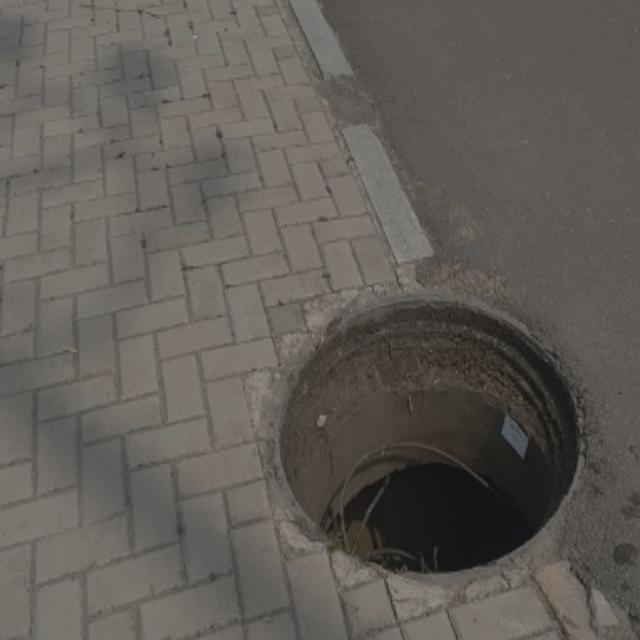lose: (269, 289, 586, 578)
